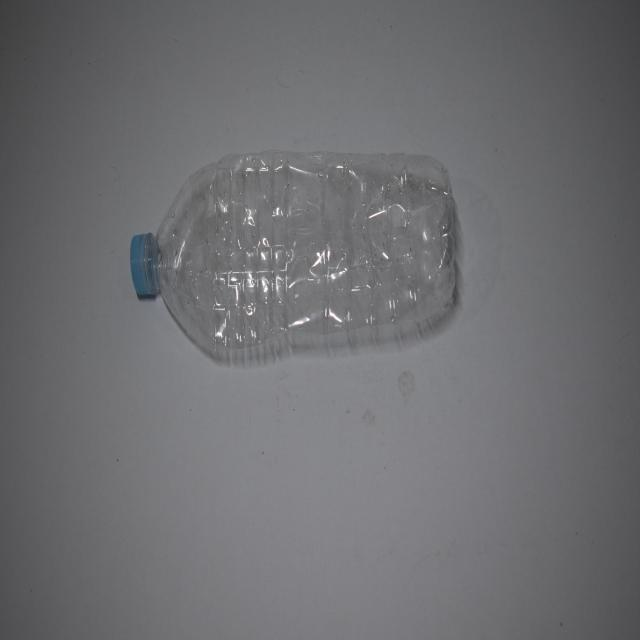bottle: (110, 130, 484, 377)
